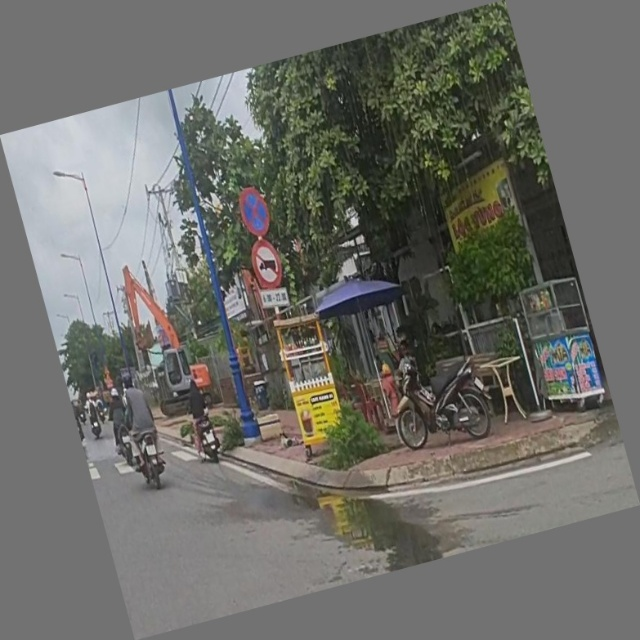B.8a: (247, 235, 287, 293)
P.130: (235, 183, 276, 240)
